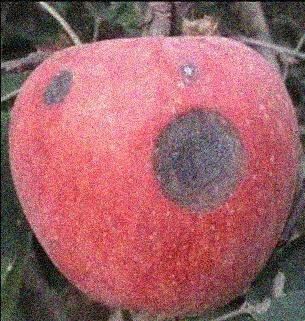rotten apple: (8, 40, 297, 315)
